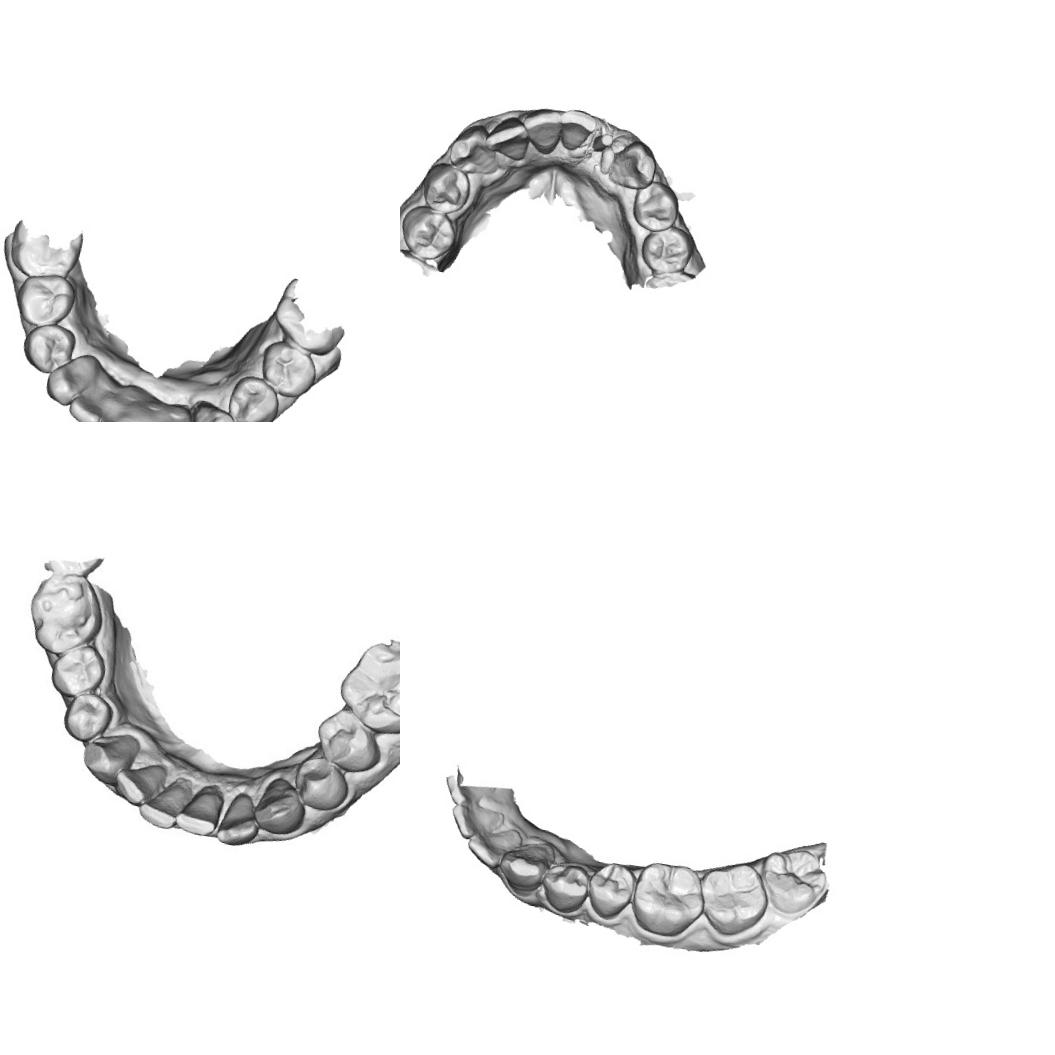abutment: (591, 128, 618, 155)
canine: (494, 836, 556, 902), (252, 775, 312, 834), (40, 350, 98, 410), (82, 728, 139, 788), (446, 120, 504, 178), (604, 135, 661, 193), (181, 398, 242, 422)
incisor: (464, 821, 524, 874), (515, 104, 566, 157), (216, 792, 266, 846), (447, 800, 506, 844), (482, 111, 532, 162), (63, 371, 110, 422), (554, 106, 599, 156), (178, 787, 224, 834), (142, 780, 184, 828), (118, 760, 162, 802), (91, 390, 134, 422), (119, 398, 166, 422), (150, 405, 199, 422)
molar: (24, 569, 107, 652), (692, 856, 774, 940), (628, 858, 710, 941), (334, 636, 400, 730), (754, 843, 831, 920)
premolar: (10, 267, 78, 334), (254, 337, 322, 404), (310, 711, 382, 773), (18, 318, 80, 380), (400, 201, 461, 263), (636, 220, 697, 278), (583, 858, 638, 922), (417, 159, 475, 218), (292, 754, 352, 811), (46, 642, 105, 699), (222, 369, 285, 422), (536, 859, 593, 917), (628, 177, 684, 235), (64, 688, 111, 741)
